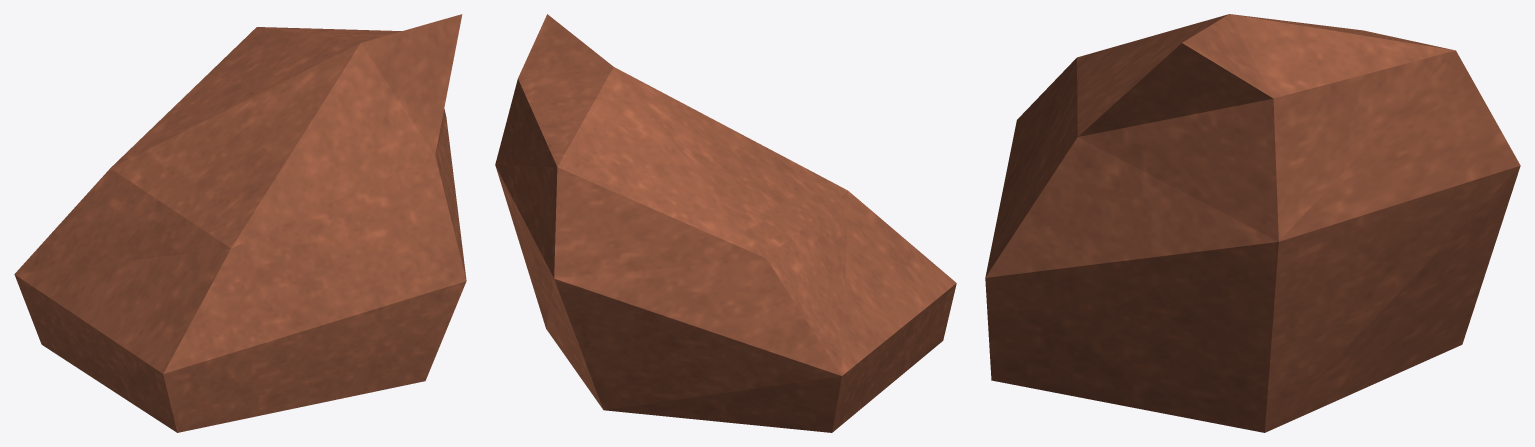
File: stone_rust_cleaver.glb
The picture shows the model from 3 angles, left to right: view 1: azimuth 30°, elevation 25°; view 2: azimuth 150°, elevation 25°; view 3: azimuth 270°, elevation 25°; orthographic projection. The views are drawn at different scales.
Visible parts, largest first — view 1: stone_rust_cleaver; view 2: stone_rust_cleaver; view 3: stone_rust_cleaver.
Part boxes in pixels (bbox=[...]): stone_rust_cleaver: bbox=[14, 14, 466, 432]; stone_rust_cleaver: bbox=[495, 14, 956, 432]; stone_rust_cleaver: bbox=[985, 14, 1520, 432].
Size of the model in its own units: 0.38 by 0.27 by 0.32.
Materials: 1 (1 with a texture image).
